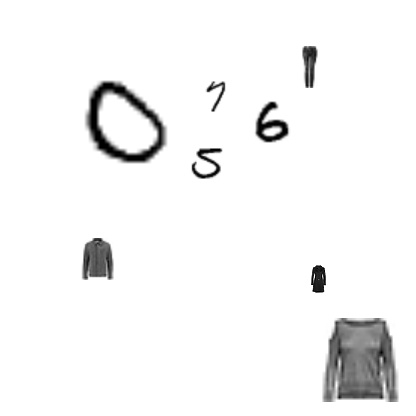0: (62, 66, 174, 178)
5: (186, 141, 228, 183)
6: (242, 96, 298, 152)
7: (195, 71, 237, 113)
Coat: (76, 238, 118, 280), (304, 265, 332, 293)
Pullover: (317, 318, 401, 402)
Trouser: (289, 46, 331, 88)
